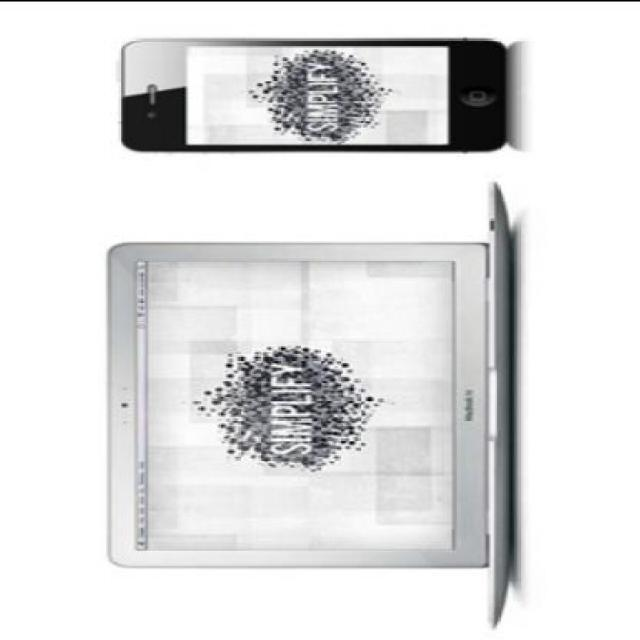phone: (112, 39, 490, 156)
